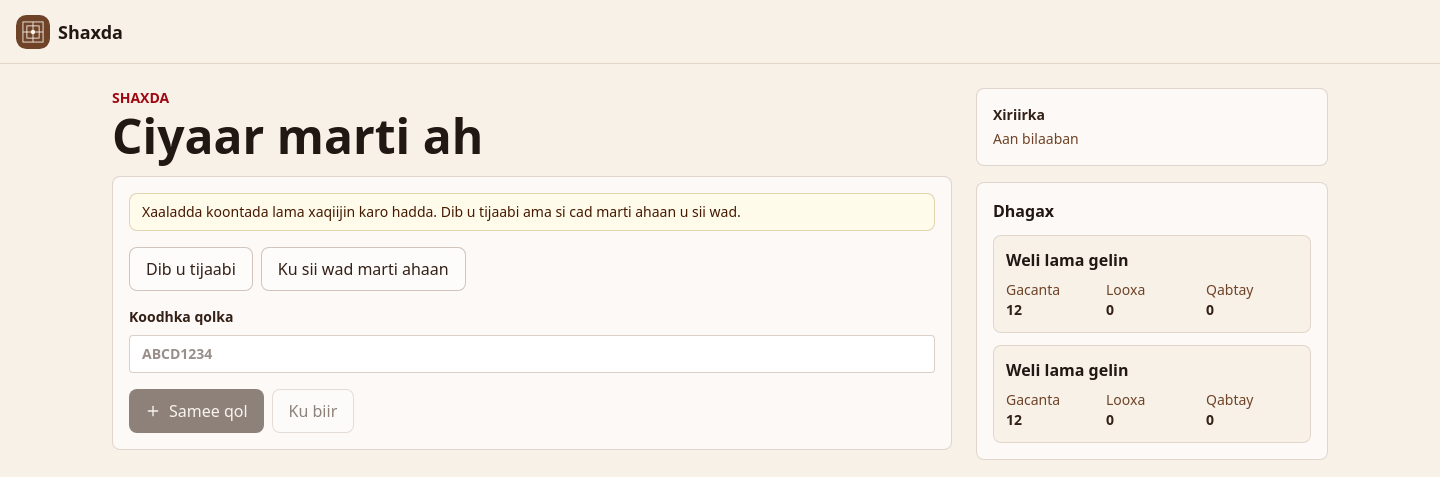
Scenario: /online › requires explicit guest continuation when identity status is unavailable
Expected: the text "Xaaladda koontada lama xaqiijin karo hadda. Dib u tijaabi ama si cad marti ahaan u sii wad." is shown, [142, 202, 741, 221]
Expected: the button with test id "create-room" is disabled, [129, 389, 264, 433]
Step 1. Click the button "Ku sii wad marti ahaan" → (363, 269), box [261, 247, 466, 291]
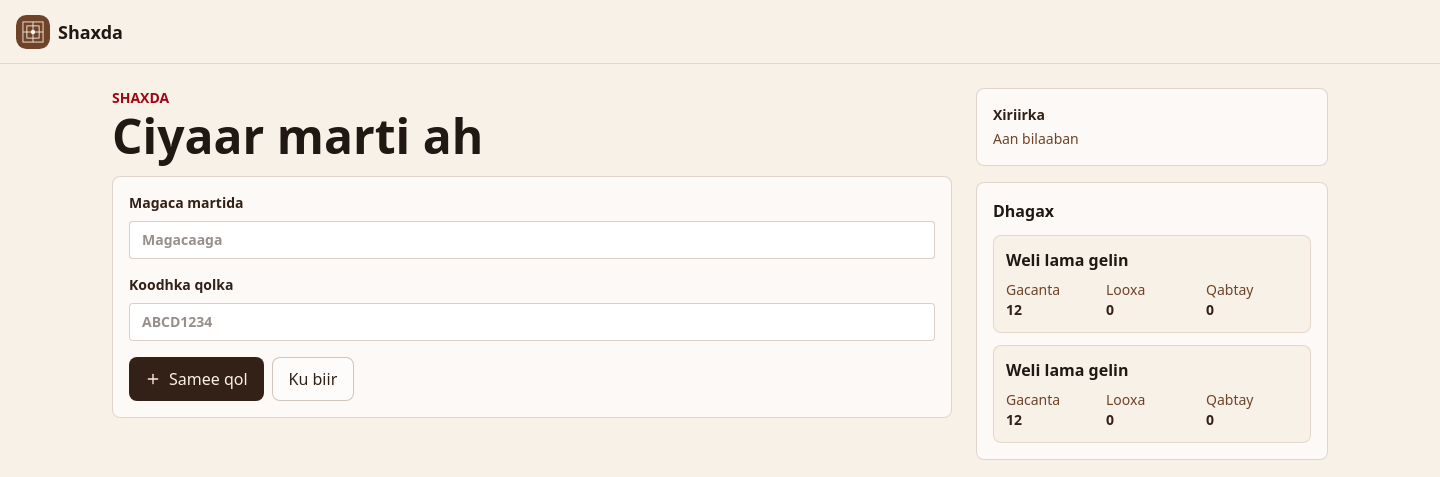
Result: the field labelled "Magaca martida" is shown at [129, 221, 935, 259]
Result: the button with test id "create-room" is enabled at [129, 357, 264, 401]
